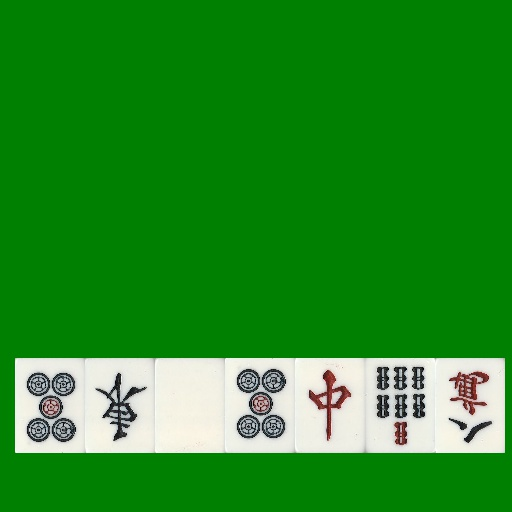5p: (15, 358, 85, 453), (225, 358, 295, 453)
7s: (365, 358, 435, 453)
8m: (435, 358, 505, 453)
east: (85, 358, 155, 453)
tyun: (295, 358, 365, 453)
white: (155, 358, 225, 453)
